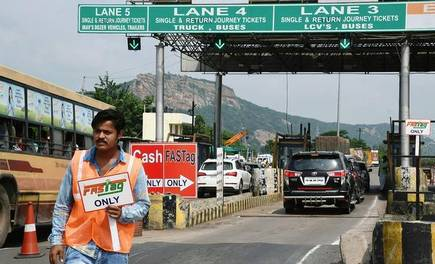toll plaza: (73, 1, 435, 69)
